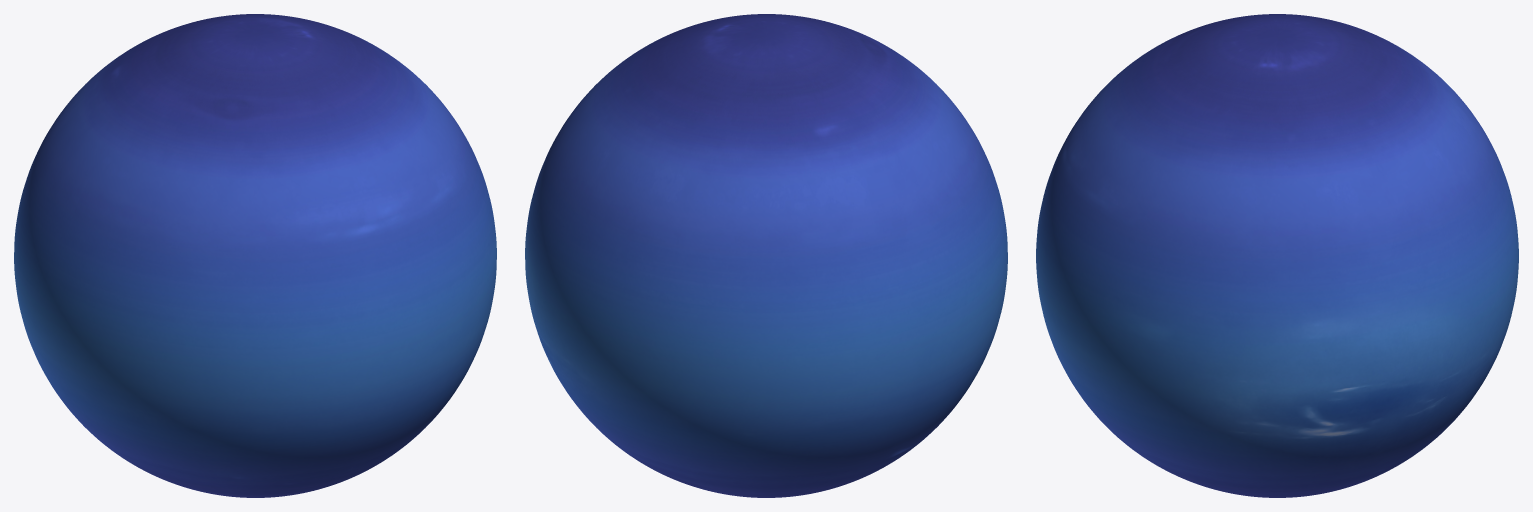
The model's file is neptune.glb.
3 renders of one model, left to right at view 1: azimuth 30°, elevation 25°; view 2: azimuth 150°, elevation 25°; view 3: azimuth 270°, elevation 25°, orthographic.
Parts seen in each view (by area): view 1: Neptun_Sphere.008; view 2: Neptun_Sphere.008; view 3: Neptun_Sphere.008.
Boxes of the visible parts, x1,y1,x2,y2 form: Neptun_Sphere.008: (14,14,496,497); Neptun_Sphere.008: (525,14,1007,497); Neptun_Sphere.008: (1036,14,1518,497).
Size of the model in its own units: 1.76 by 1.77 by 1.76.
1 material, 1 textured.
